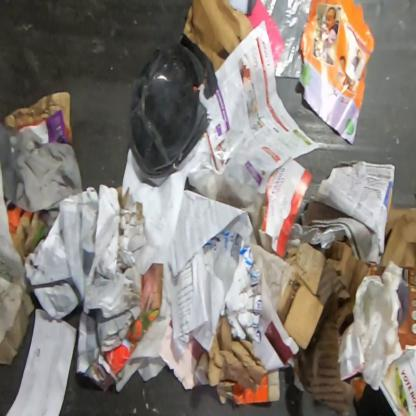cardboard: (22, 183, 148, 322), (203, 228, 264, 344), (275, 240, 327, 350), (182, 0, 255, 75), (206, 315, 270, 392), (0, 276, 37, 367), (215, 368, 281, 406), (379, 203, 416, 269)
rigid_plastic: (128, 38, 210, 179)
soft_plastic: (0, 119, 84, 231), (260, 0, 312, 80), (243, 0, 285, 69)
